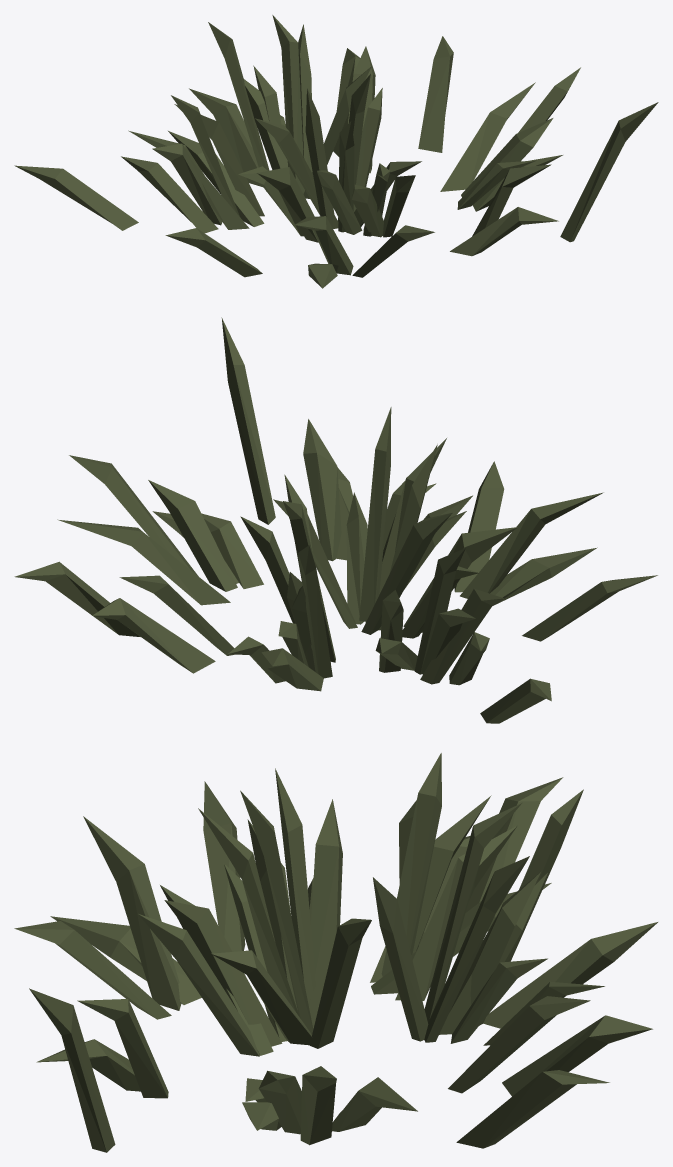
The model's file is SM_Generic_Grass_Patch_01.glb.
The picture shows the model from 3 angles, top to bottom: view 1: azimuth 30°, elevation 25°; view 2: azimuth 150°, elevation 25°; view 3: azimuth 270°, elevation 25°; orthographic projection. The views are drawn at different scales.
Parts seen in each view (by area): view 1: SM_Generic_Grass_Patch_01; view 2: SM_Generic_Grass_Patch_01; view 3: SM_Generic_Grass_Patch_01.
Part boxes in pixels (left/top/right/bottom): SM_Generic_Grass_Patch_01: left=14, top=15, right=658, bottom=288; SM_Generic_Grass_Patch_01: left=14, top=317, right=657, bottom=723; SM_Generic_Grass_Patch_01: left=14, top=753, right=657, bottom=1152.
Size of the model in its own units: 2.81 by 0.92 by 2.16.
1 material, 1 textured.
